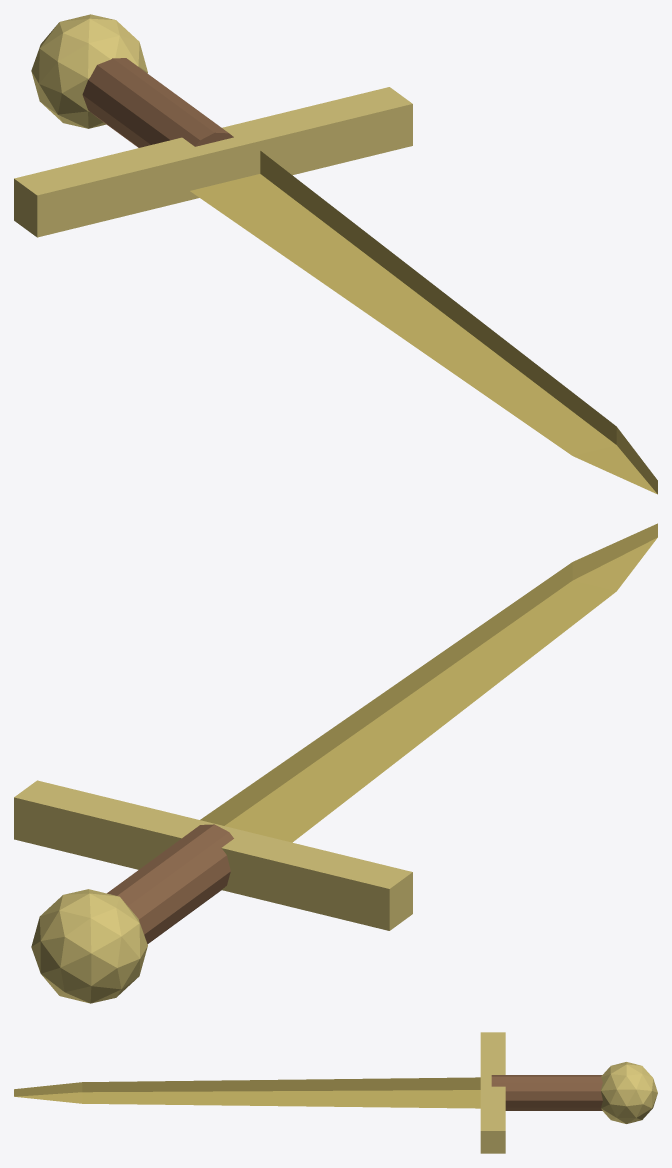
The model's file is thin_golden_broadsword.glb.
3 renders of one model, top to bottom at view 1: azimuth 30°, elevation 25°; view 2: azimuth 150°, elevation 25°; view 3: azimuth 270°, elevation 25°, orthographic. The views are drawn at different scales.
Visible parts, largest first — view 1: sword_0_0, sword_0_1, sword_0_2, sword_0_3; view 2: sword_0_0, sword_0_1, sword_0_3, sword_0_2; view 3: sword_0_0, sword_0_2, sword_0_1, sword_0_3.
Part boxes in pixels (x1,y1,x2,y2): sword_0_0: [190, 151, 657, 494]; sword_0_1: [14, 87, 412, 237]; sword_0_2: [82, 58, 233, 147]; sword_0_3: [31, 14, 147, 128]; sword_0_0: [200, 523, 657, 842]; sword_0_1: [14, 780, 412, 930]; sword_0_3: [31, 889, 147, 1003]; sword_0_2: [107, 824, 233, 944]; sword_0_0: [14, 1077, 480, 1108]; sword_0_2: [491, 1075, 602, 1110]; sword_0_1: [480, 1032, 505, 1153]; sword_0_3: [601, 1062, 657, 1123].
Bounding box in the file's own units: 1.68 × 0.4528 × 4.63.
